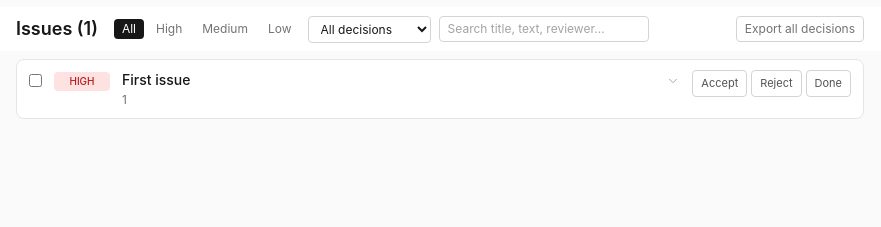
Scenario: IssuesTable annotation lifecycle › ignores a stale annotation load after switching runs
Click the button "First issue 1". click: (156, 80)
box: [122,70,680,108]
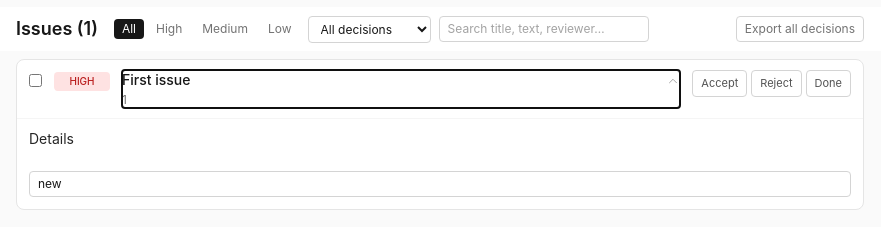
Now the field with placeholder "Add a note…" holds "new", box [29,171,851,197]
